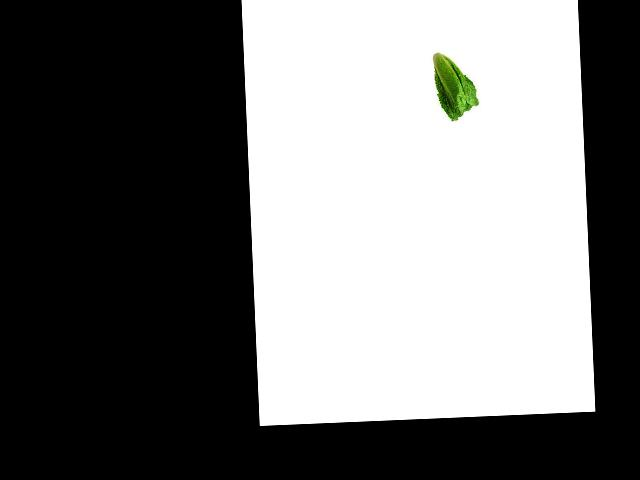lettuce: (431, 44, 480, 122)
